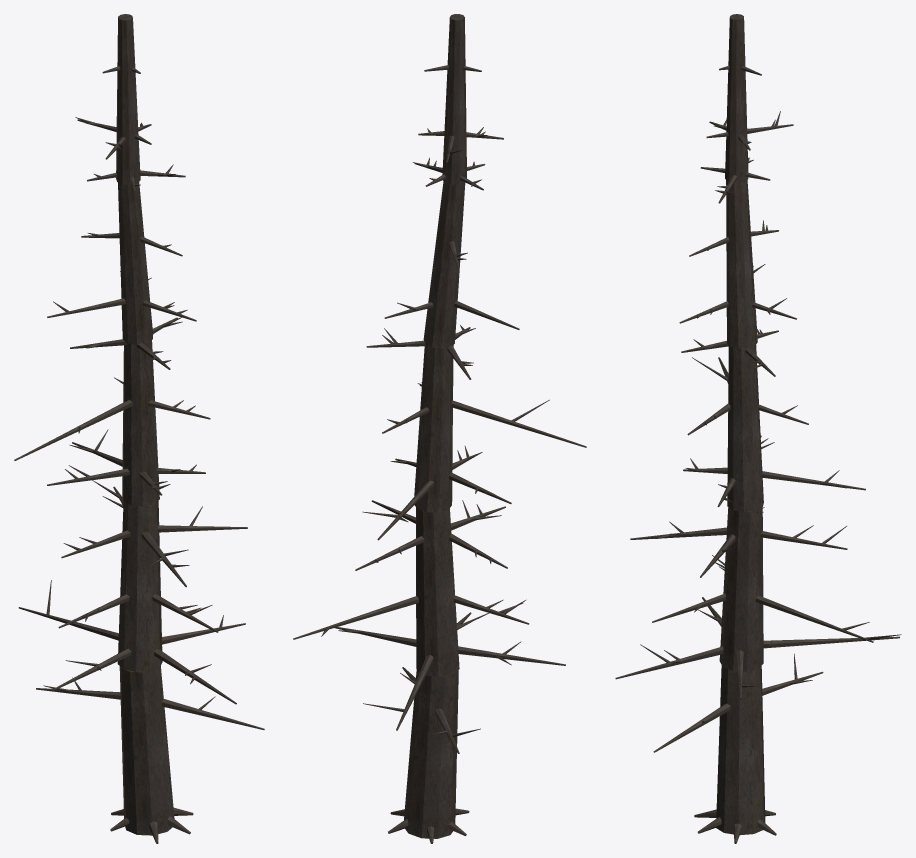
The model's file is carrion_dead_pine.glb.
3 views of the same model, side by side, from view 1: azimuth 30°, elevation 25°; view 2: azimuth 150°, elevation 25°; view 3: azimuth 270°, elevation 25° (orthographic). The views are drawn at different scales.
Parts seen in each view (by area): view 1: CarrionDeadPine; view 2: CarrionDeadPine; view 3: CarrionDeadPine.
Boxes of the visible parts, <box> form: CarrionDeadPine: <box>14,14,264,843</box>; CarrionDeadPine: <box>293,14,586,843</box>; CarrionDeadPine: <box>615,14,901,843</box>.
Bounding box in the file's own units: 5.59 × 18.03 × 5.86.
Materials: 1 (1 with a texture image).
